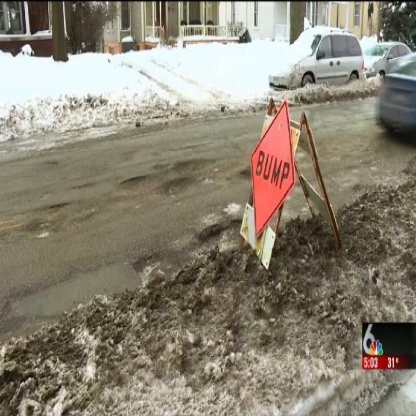pothole: (112, 144, 223, 214), (15, 192, 94, 243)
